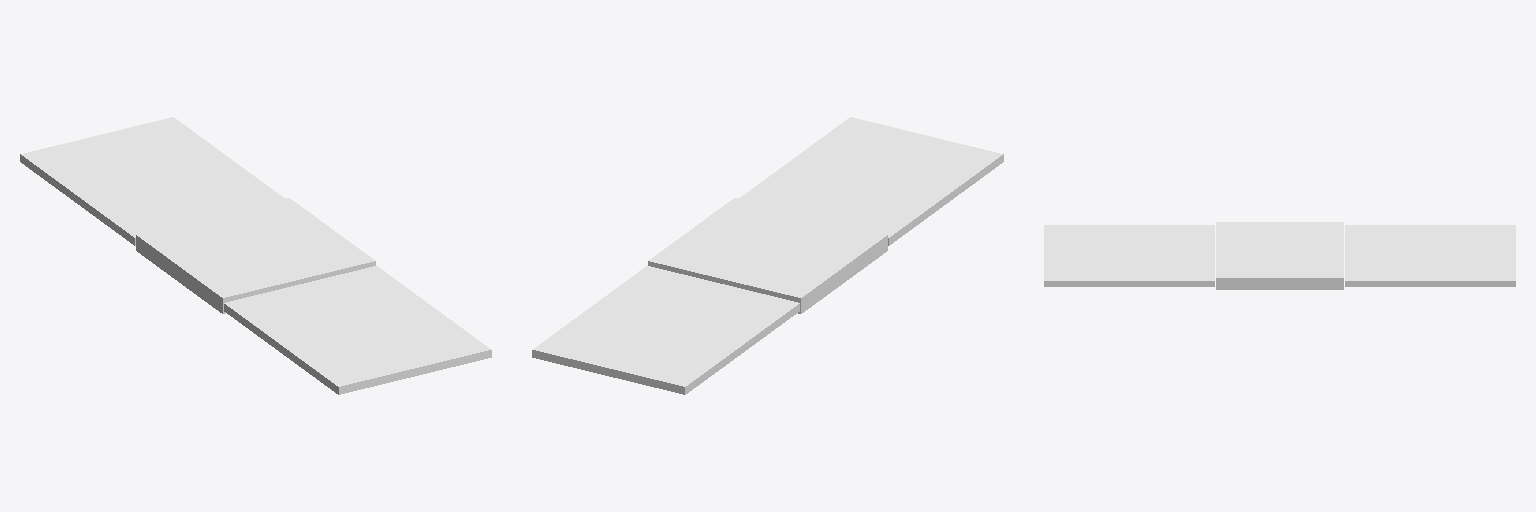
robot.urdf — floor:
<?xml version="1.0" ?>
<robot name="floor">
  <link name="floor">
    <contact>
      <lateral_friction value="1.0"/>
    </contact>
    <inertial>
      <origin
        xyz="0 0 0"
        rpy="0 0 0"/>
       <mass
         value="0.0"/>
       <inertia
         ixx="0"
         ixy="0"
         ixz="0"
         iyy="0"
         iyz="0"
         izz="0"/>
    </inertial>
    <visual>
      <origin
        xyz="0 0 0"
        rpy="0 0 0"/>
      <geometry>
        <mesh
          filename="plane100.obj" scale="1 1 1"/>
      </geometry>
      <material
        name="white">
        <color
          rgba="1 1 1 1"/>
      </material>
    </visual>
    <collision>
      <origin
        xyz="0 0 0"
        rpy="0 0 0"/>
      <geometry>
        <mesh
            filename="plane100.obj" scale="1 1 1"/>
	    <plane normal="0 0 1"/>
      </geometry>
    </collision>
  </link>

  <!-- <joint name="joint_step1" type="fixed">
    <parent link="floor"/>
    <child link="step1"/>
    <origin
      xyz="0 -2.05 0.01"
      rpy="0 0 0" />
  </joint>

  <link
    name="step1">
    <inertial>
      <origin
        xyz="0.18979 0.2 0.029167"
        rpy="0 0 0" />
      <mass
        value="17.5" />
      <inertia
        ixx="0.24078"
        ixy="-3.71495684370083E-17"
        ixz="-0.042535"
        iyy="0.97967"
        iyz="1.39467056759545E-17"
        izz="1.2056" />
    </inertial>
    <visual>
      <origin
        xyz="0 0 0"
        rpy="0 0 0" />
      <geometry>
        <box size="0.8 0.45 0.02" />
      </geometry>
      <material
        name="W">
        <color
          rgba="1 1 1 1" />
        <texture
          filename="" />
      </material>
    </visual>
    <collision>
      <origin
        xyz="0 0 0"
        rpy="0 0 0" />
      <geometry>
        <box size="0.8 0.45 0.02" />
      </geometry>
    </collision>
  </link> -->

  <!-- <joint name="joint_step2" type="fixed">
    <parent link="floor"/>
    <child link="step2"/>
    <origin
      xyz="0 -1.60 0.02"
      rpy="0 0 0" />
  </joint>

  <link
    name="step2">
    <inertial>
      <origin
        xyz="0.18979 0.2 0.029167"
        rpy="0 0 0" />
      <mass
        value="17.5" />
      <inertia
        ixx="0.24078"
        ixy="-3.71495684370083E-17"
        ixz="-0.042535"
        iyy="0.97967"
        iyz="1.39467056759545E-17"
        izz="1.2056" />
    </inertial>
    <visual>
      <origin
        xyz="0 0 0"
        rpy="0 0 0" />
      <geometry>
        <box size="0.8 0.45 0.04" />
      </geometry>
      <material
        name="A">
        <color
          rgba="0 1 1 1" />
        <texture
          filename="" />
      </material>
    </visual>
    <collision>
      <origin
        xyz="0 0 0"
        rpy="0 0 0" />
      <geometry>
        <box size="0.8 0.45 0.04" />
      </geometry>
    </collision>
  </link> -->

  <!-- <joint name="joint_step3" type="fixed">
    <parent link="floor"/>
    <child link="step3"/>
    <origin
      xyz="0 -1.175 0.03"
      rpy="0 0 0" />
  </joint>

  <link
    name="step3">
    <inertial>
      <origin
        xyz="0.18979 0.2 0.029167"
        rpy="0 0 0" />
      <mass
        value="17.5" />
      <inertia
        ixx="0.24078"
        ixy="-3.71495684370083E-17"
        ixz="-0.042535"
        iyy="0.97967"
        iyz="1.39467056759545E-17"
        izz="1.2056" />
    </inertial>
    <visual>
      <origin
        xyz="0 0 0"
        rpy="0 0 0" />
      <geometry>
        <box size="0.8 0.40 0.06" />
      </geometry>
      <material
        name="B">
        <color
          rgba="1 0 1 1" />
        <texture
          filename="" />
      </material>
    </visual>
    <collision>
      <origin
        xyz="0 0 0"
        rpy="0 0 0" />
      <geometry>
        <box size="0.8 0.40 0.06" />
      </geometry>
    </collision>
  </link> -->

  <joint name="joint_step4" type="fixed">
    <parent link="floor"/>
    <child link="step4"/>
    <origin
      xyz="0 -1.15 0"
      rpy="0 0 0" />
  </joint>

  <link
    name="step4">
    <inertial>
      <origin
        xyz="0.18979 0.2 0.029167"
        rpy="0 0 0" />
      <mass
        value="17.5" />
      <inertia
        ixx="0.24078"
        ixy="-3.71495684370083E-17"
        ixz="-0.042535"
        iyy="0.97967"
        iyz="1.39467056759545E-17"
        izz="1.2056" />
    </inertial>
    <visual>
      <origin
        xyz="0 0 0"
        rpy="0 0 0" />
      <geometry>
        <box size="1 1.3 0.05" />
      </geometry>
      <material
        name="C">
        <color
          rgba="1 1 1 1" />
        <texture
          filename="" />
      </material>
    </visual>
    <collision>
      <origin
        xyz="0 0 0"
        rpy="0 0 0" />
      <geometry>
        <box size="1 1.3 0.05" />
      </geometry>
    </collision>
  </link>

  <joint name="joint_step5" type="fixed">
    <parent link="floor"/>
    <child link="step5"/>
    <origin
      xyz="0 0 0"
      rpy="0 0 0" />
  </joint>

  <link
    name="step5">
    <inertial>
      <origin
        xyz="0.18979 0.2 0.029167"
        rpy="0 0 0" />
      <mass
        value="17.5" />
      <inertia
        ixx="0.24078"
        ixy="-3.71495684370083E-17"
        ixz="-0.042535"
        iyy="0.97967"
        iyz="1.39467056759545E-17"
        izz="1.2056" />
    </inertial>
    <visual>
      <origin
        xyz="0 0 0"
        rpy="0 0 0" />
      <geometry>
        <box size="1 0.98 0.1" />
      </geometry>
      <material
        name="W">
        <color
          rgba="1 1 1 1" />
        <texture
          filename="" />
      </material>
    </visual>
    <collision>
      <origin
        xyz="0 0 0"
        rpy="0 0 0" />
      <geometry>
        <box size="1 0.98 0.1" />
      </geometry>
    </collision>
  </link>

  <joint name="joint_step6" type="fixed">
    <parent link="floor"/>
    <child link="step6"/>
    <origin
      xyz="0 1.15 0"
      rpy="0 0 0" />
  </joint>

  <link
    name="step6">
    <inertial>
      <origin
        xyz="0.18979 0.2 0.029167"
        rpy="0 0 0" />
      <mass
        value="17.5" />
      <inertia
        ixx="0.24078"
        ixy="-3.71495684370083E-17"
        ixz="-0.042535"
        iyy="0.97967"
        iyz="1.39467056759545E-17"
        izz="1.2056" />
    </inertial>
    <visual>
      <origin
        xyz="0 0 0"
        rpy="0 0 0" />
      <geometry>
        <box size="1 1.3 0.05" />
      </geometry>
      <material
        name="A">
        <color
          rgba="1 1 1 1" />
        <texture
          filename="" />
      </material>
    </visual>
    <collision>
      <origin
        xyz="0 0 0"
        rpy="0 0 0" />
      <geometry>
        <box size="1 1.3 0.05" />
      </geometry>
    </collision>
  </link>

  <!-- <joint name="joint_step7" type="fixed">
    <parent link="floor"/>
    <child link="step7"/>
    <origin
      xyz="0 0.97 0.07"
      rpy="0 0 0" />
  </joint>

  <link
    name="step7">
    <inertial>
      <origin
        xyz="0.18979 0.2 0.029167"
        rpy="0 0 0" />
      <mass
        value="17.5" />
      <inertia
        ixx="0.24078"
        ixy="-3.71495684370083E-17"
        ixz="-0.042535"
        iyy="0.97967"
        iyz="1.39467056759545E-17"
        izz="1.2056" />
    </inertial>
    <visual>
      <origin
        xyz="0 0 0"
        rpy="0 0 0" />
      <geometry>
        <box size="0.8 0.48 0.14" />
      </geometry>
      <material
        name="W">
        <color
          rgba="1 1 1 1" />
        <texture
          filename="" />
      </material>
    </visual>
    <collision>
      <origin
        xyz="0 0 0"
        rpy="0 0 0" />
      <geometry>
        <box size="0.8 0.48 0.14" />
      </geometry>
    </collision>
  </link>

  <joint name="joint_step8" type="fixed">
    <parent link="floor"/>
    <child link="step8"/>
    <origin
      xyz="0 1.45 0.06"
      rpy="0 0 0" />
  </joint>

  <link
    name="step8">
    <inertial>
      <origin
        xyz="0.18979 0.2 0.029167"
        rpy="0 0 0" />
      <mass
        value="17.5" />
      <inertia
        ixx="0.24078"
        ixy="-3.71495684370083E-17"
        ixz="-0.042535"
        iyy="0.97967"
        iyz="1.39467056759545E-17"
        izz="1.2056" />
    </inertial>
    <visual>
      <origin
        xyz="0 0 0"
        rpy="0 0 0" />
      <geometry>
        <box size="0.8 0.5 0.12" />
      </geometry>
      <material
        name="W">
        <color
          rgba="1 1 1 1" />
        <texture
          filename="" />
      </material>
    </visual>
    <collision>
      <origin
        xyz="0 0 0"
        rpy="0 0 0" />
      <geometry>
        <box size="0.8 0.5 0.12" />
      </geometry>
    </collision>
  </link>

  <joint name="joint_box1" type="fixed">
    <parent link="floor"/>
    <child link="box1"/>
    <origin
      xyz="0 2.1 0.05"
      rpy="0 0 0" />
  </joint>

  <link
    name="box1">
    <inertial>
      <origin
        xyz="0.18979 0.2 0.029167"
        rpy="0 0 0" />
      <mass
        value="17.5" />
      <inertia
        ixx="0.24078"
        ixy="-3.71495684370083E-17"
        ixz="-0.042535"
        iyy="0.97967"
        iyz="1.39467056759545E-17"
        izz="1.2056" />
    </inertial>
    <visual>
      <origin
        xyz="0 0 0"
        rpy="0 0 0" />
      <geometry>
        <box size="0.8 0.8 0.1" />
      </geometry>
      <material
        name="Y">
        <color
          rgba="0.74117 0.71764 0.41961 1" />
        <texture
          filename="" />
      </material>
    </visual>
    <collision>
      <origin
        xyz="0 0 0"
        rpy="0 0 0" />
      <geometry>
        <box size="0.8 0.8 0.1" />
      </geometry>
    </collision>
  </link>

  <joint name="joint_wave1" type="fixed">
    <parent link="floor"/>
    <child link="wave1"/>
    <origin
      xyz="-0.4 4.738 0.05"
      rpy="1.5707963267949 0 -1.5707963267949" />
  </joint>

  <link
    name="wave1">
    <inertial>
      <origin
        xyz="0.42711 0.4 0.00258419999999998"
        rpy="0 0 0" />
      <mass
        value="32.671" />
      <inertia
        ixx="1.7782"
        ixy="4.93060000000036E-05"
        ixz="-0.058488"
        iyy="1.2954"
        iyz="-2.23359999998955E-05"
        izz="3.0021" />
    </inertial>
    <visual>
      <origin
        xyz="0 0 0"
        rpy="0 0 0" />
      <geometry>
        <mesh
          filename="wave2.STL" />
      </geometry>
      <material
        name="Y">
        <color
          rgba="0.74117 0.71764 0.41961 1" />
        <texture
          filename="" />
      </material>
    </visual>
    <collision>
      <origin
        xyz="0 0 0"
        rpy="0 0 0" />
      <geometry>
        <mesh
          filename="wave2.STL" />
      </geometry>
    </collision>
  </link>

  <joint name="joint_wave2" type="fixed">
    <parent link="floor"/>
    <child link="wave2"/>
    <origin
      xyz="-0.4 3.25 0.05"
      rpy="1.5707963267949 0 -1.5707963267949" />
  </joint>

  <link
    name="wave2">
    <inertial>
      <origin
        xyz="0.42711 0.4 0.00258419999999998"
        rpy="0 0 0" />
      <mass
        value="32.671" />
      <inertia
        ixx="1.7782"
        ixy="4.93060000000036E-05"
        ixz="-0.058488"
        iyy="1.2954"
        iyz="-2.23359999998955E-05"
        izz="3.0021" />
    </inertial>
    <visual>
      <origin
        xyz="0 0 0"
        rpy="0 0 0" />
      <geometry>
        <mesh
          filename="wave2.STL" />
      </geometry>
      <material
        name="Y">
        <color
          rgba="0.74117 0.71764 0.41961 1" />
        <texture
          filename="" />
      </material>
    </visual>
    <collision>
      <origin
        xyz="0 0 0"
        rpy="0 0 0" />
      <geometry>
        <mesh
          filename="wave2.STL" />
      </geometry>
    </collision>
  </link>

  <joint name="joint_rise" type="fixed">
    <parent link="floor"/>
    <child link="rise"/>
    <origin
      xyz="-0.4 3.613 0.05"
      rpy="1.5707963267949 0 1.5707963267949" />
  </joint>

  <link
    name="rise">
    <inertial>
      <origin
        xyz="0.039999 -0.4 -0.0137"
        rpy="0 0 0" />
      <mass
        value="24.702" />
      <inertia
        ixx="1.3307"
        ixy="-5.75845261182208E-18"
        ixz="-0.034745"
        iyy="1.1438"
        iyz="8.99575803327572E-17"
        izz="2.448" />
    </inertial>
    <visual>
      <origin
        xyz="0 0 0"
        rpy="0 0 0" />
      <geometry>
        <mesh
          filename="rise.STL" />
      </geometry>
      <material
        name="Y">
        <color
          rgba="0.74117 0.71764 0.41961 1" />
        <texture
          filename="" />
      </material>
    </visual>
    <collision>
      <origin
        xyz="0 0 0"
        rpy="0 0 0" />
      <geometry>
        <mesh
          filename="rise.STL" />
      </geometry>
    </collision>
  </link>

  <joint name="joint_box2" type="fixed">
    <parent link="floor"/>
    <child link="box2"/>
    <origin
      xyz="0 5.1 0.02777"
      rpy="0 0 0" />
  </joint>

  <link
    name="box2">
    <inertial>
      <origin
        xyz="0.18979 0.2 0.029167"
        rpy="0 0 0" />
      <mass
        value="17.5" />
      <inertia
        ixx="0.24078"
        ixy="-3.71495684370083E-17"
        ixz="-0.042535"
        iyy="0.97967"
        iyz="1.39467056759545E-17"
        izz="1.2056" />
    </inertial>
    <visual>
      <origin
        xyz="0 0 0"
        rpy="0 0 0" />
      <geometry>
        <box size="0.8 0.8 0.05554" />
      </geometry>
      <material
        name="Y">
        <color
          rgba="0.74117 0.71764 0.41961 1" />
        <texture
          filename="" />
      </material>
    </visual>
    <collision>
      <origin
        xyz="0 0 0"
        rpy="0 0 0" />
      <geometry>
        <box size="0.8 0.8 0.05554" />
      </geometry>
    </collision>
  </link>

  <joint name="joint_step9" type="fixed">
    <parent link="floor"/>
    <child link="step9"/>
    <origin
      xyz="0 5.75 0.015"
      rpy="0 0 0" />
  </joint>

  <link
    name="step9">
    <inertial>
      <origin
        xyz="0.18979 0.2 0.029167"
        rpy="0 0 0" />
      <mass
        value="17.5" />
      <inertia
        ixx="0.24078"
        ixy="-3.71495684370083E-17"
        ixz="-0.042535"
        iyy="0.97967"
        iyz="1.39467056759545E-17"
        izz="1.2056" />
    </inertial>
    <visual>
      <origin
        xyz="0 0 0"
        rpy="0 0 0" />
      <geometry>
        <box size="0.8 0.5 0.03" />
      </geometry>
      <material
        name="W">
        <color
          rgba="1 1 1 1" />
        <texture
          filename="" />
      </material>
    </visual>
    <collision>
      <origin
        xyz="0 0 0"
        rpy="0 0 0" />
      <geometry>
        <box size="0.8 0.5 0.03" />
      </geometry>
    </collision>
  </link>

  <joint name="joint_step10" type="fixed">
    <parent link="floor"/>
    <child link="step10"/>
    <origin
      xyz="0 6.25 0.008"
      rpy="0 0 0" />
  </joint>

  <link
    name="step10">
    <inertial>
      <origin
        xyz="0.18979 0.2 0.029167"
        rpy="0 0 0" />
      <mass
        value="17.5" />
      <inertia
        ixx="0.24078"
        ixy="-3.71495684370083E-17"
        ixz="-0.042535"
        iyy="0.97967"
        iyz="1.39467056759545E-17"
        izz="1.2056" />
    </inertial>
    <visual>
      <origin
        xyz="0 0 0"
        rpy="0 0 0" />
      <geometry>
        <box size="0.8 0.5 0.016" />
      </geometry>
      <material
        name="W">
        <color
          rgba="1 1 1 1" />
        <texture
          filename="" />
      </material>
    </visual>
    <collision>
      <origin
        xyz="0 0 0"
        rpy="0 0 0" />
      <geometry>
        <box size="0.8 0.5 0.016" />
      </geometry>
    </collision>
  </link> -->

</robot>

--- Facts derived from the render (not from the file) ---
The picture shows the robot from 3 angles, left to right: view 1: azimuth 30°, elevation 25°; view 2: azimuth 150°, elevation 25°; view 3: azimuth 270°, elevation 25°; orthographic projection.
Robot: floor — 4 links, 3 joints (3 fixed); root link floor; default pose: every joint at zero.
Links seen in each view (by area): view 1: step4, step6, step5; view 2: step6, step4, step5; view 3: step4, step6, step5.
Link boxes in pixels (x1,y1,x2,y2): step4: (224, 266, 491, 394); step6: (20, 117, 284, 245); step5: (136, 198, 375, 313); step6: (532, 266, 799, 394); step4: (739, 117, 1003, 245); step5: (648, 198, 887, 313); step4: (1044, 225, 1214, 286); step6: (1345, 225, 1515, 286); step5: (1216, 222, 1343, 289).
Size in the robot's own frame: 1 by 3.6 by 0.1 metres.
0 mesh visuals loaded from 1 distinct referenced files (none loaded); not drawn: 1 (reference not matched to a file when rendering).